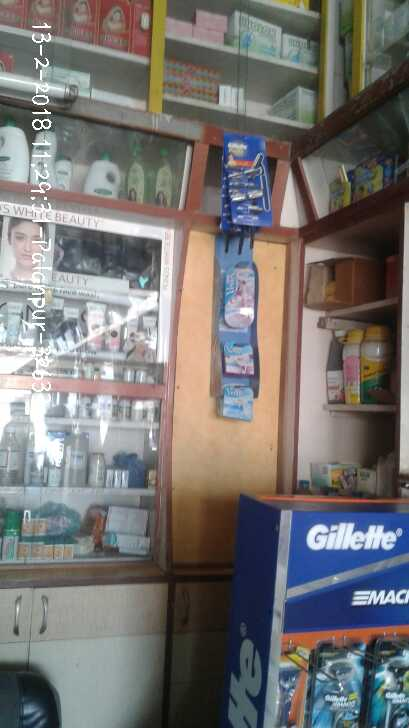beauty: (308, 646, 362, 728), (361, 648, 409, 726), (224, 260, 258, 329), (219, 336, 258, 376), (219, 380, 255, 419)
